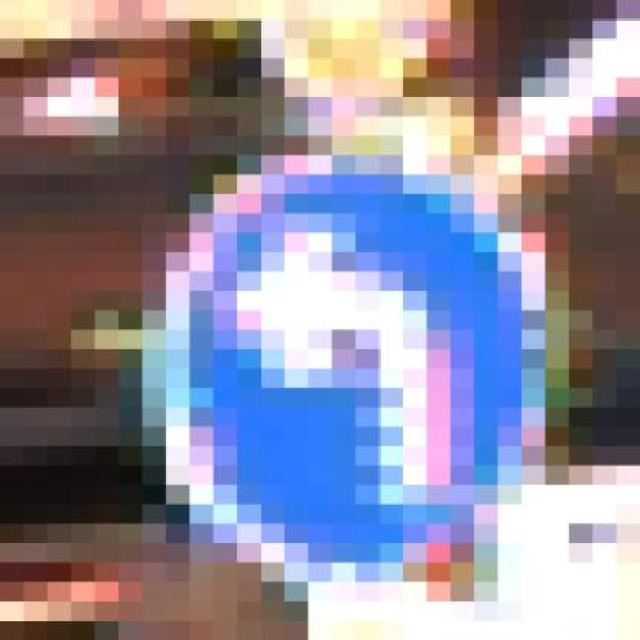Turn left ahead: (119, 156, 616, 602)
